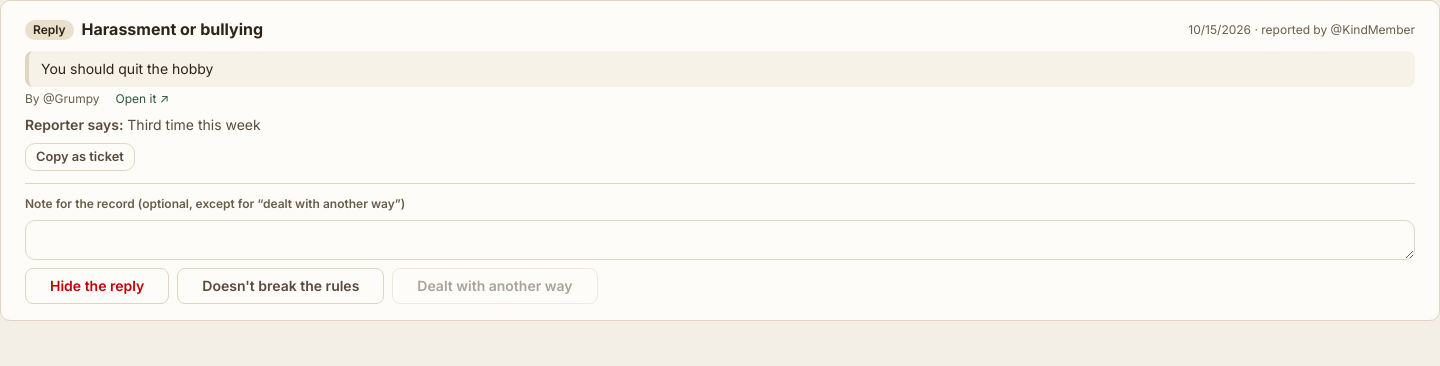
Test: Admin › Reports card › shows the server's words when an action fails
The image size is (1440, 366).
Click the button "Hide the reply": [97, 286] box x1=25 y1=268 x2=169 y2=304
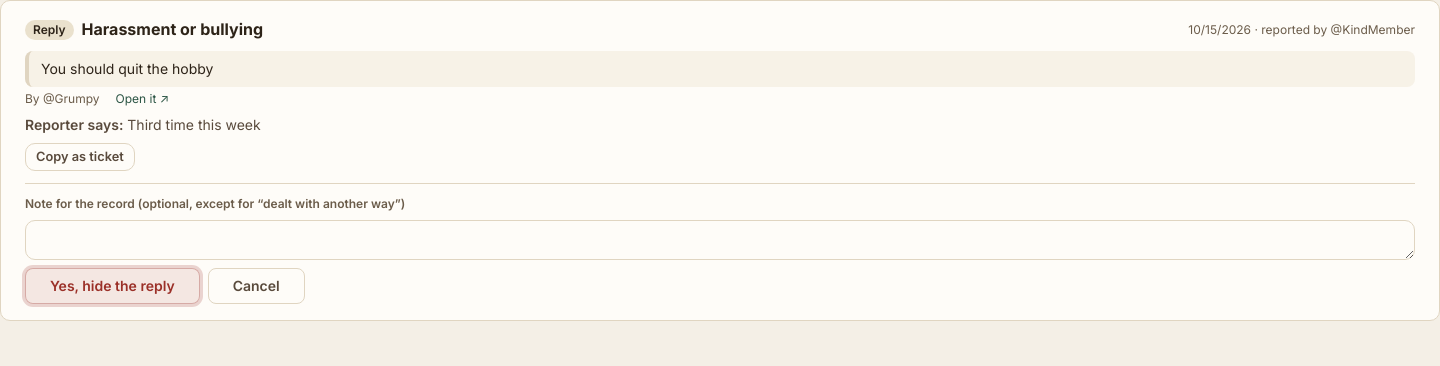
Click the button "Yes, hide the reply": [112, 286] box x1=25 y1=268 x2=200 y2=304
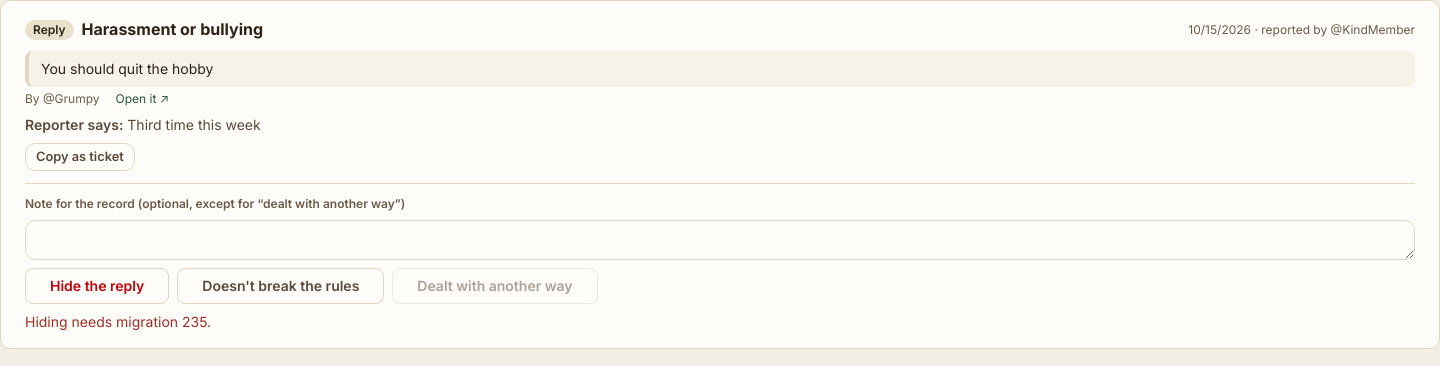
Expected: the message reads "Hiding needs migration 235.", x1=25 y1=313 x2=211 y2=330
